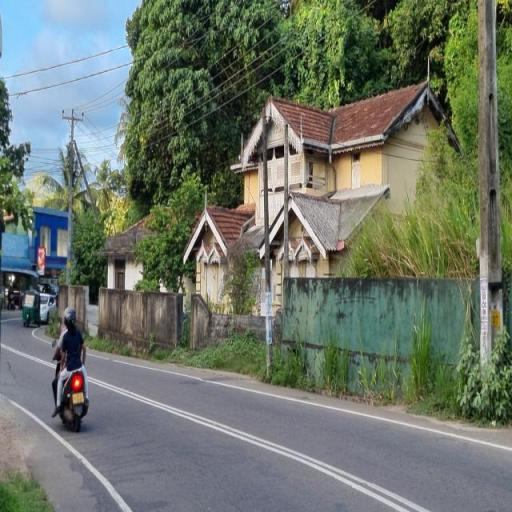double_white_line: (0, 390, 133, 512)
